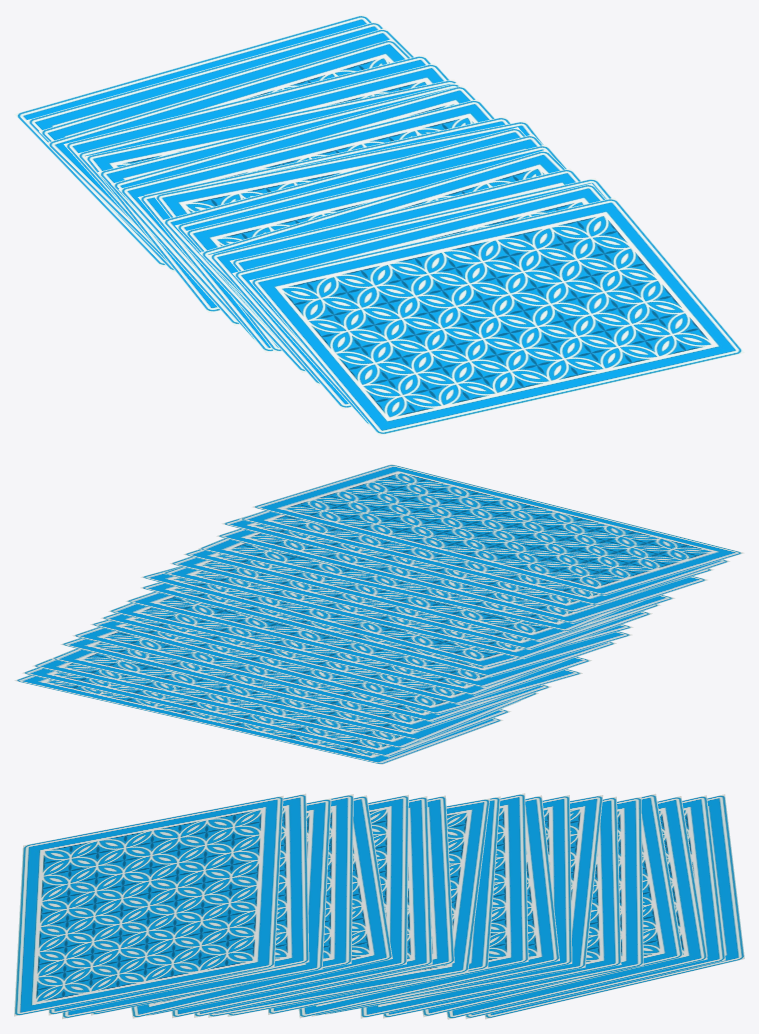
The picture shows the model from 3 angles, top to bottom: view 1: azimuth 30°, elevation 25°; view 2: azimuth 150°, elevation 25°; view 3: azimuth 270°, elevation 25°; orthographic projection. The views are drawn at different scales.
Visible parts, largest first — view 1: Cards; view 2: Cards; view 3: Cards.
Part boxes in pixels (bbox=[...]): Cards: bbox=[14, 14, 744, 435]; Cards: bbox=[14, 464, 744, 764]; Cards: bbox=[14, 793, 744, 1019].
Size of the model in its own units: 1.59 by 0.2441 by 2.74.
Materials: 1 (1 with a texture image).
